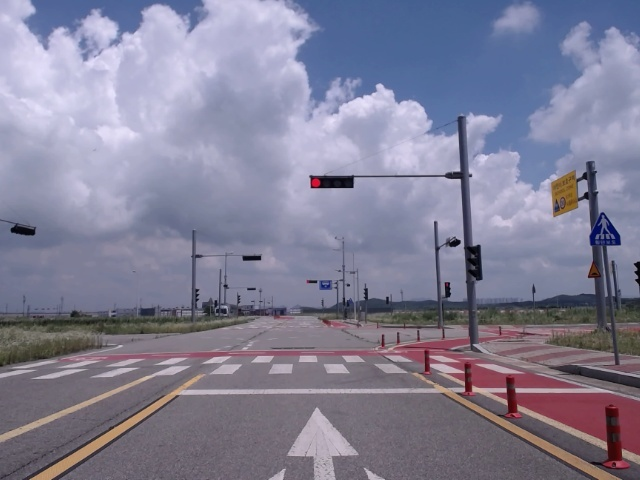red_4: (311, 176, 354, 189)
